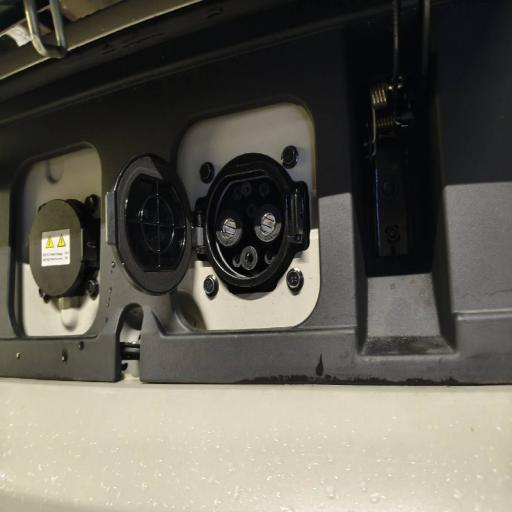DC_hole: (252, 201, 282, 244), (215, 204, 242, 246)
PE: (240, 245, 258, 272)
charging_port: (202, 160, 292, 286)
